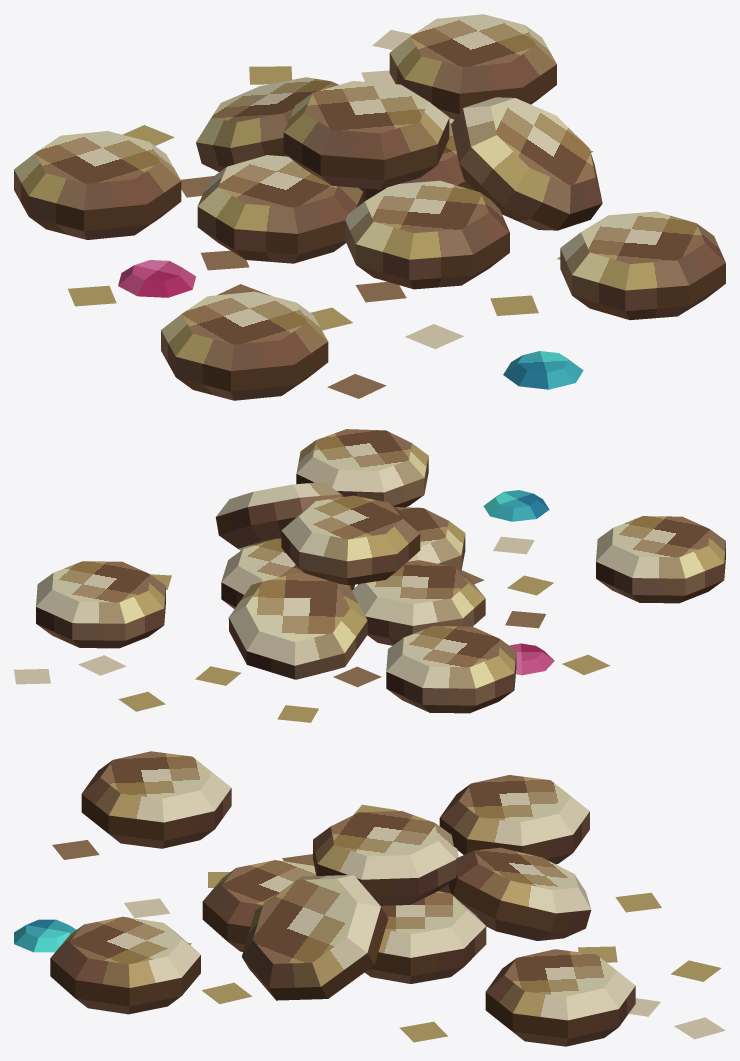
The model's file is EnvObjMD_Treasure_A.FBX.
3 renders of one model, top to bottom at view 1: azimuth 30°, elevation 25°; view 2: azimuth 150°, elevation 25°; view 3: azimuth 270°, elevation 25°, orthographic. The views are drawn at different scales.
Parts seen in each view (by area): view 1: EnvObjMD_Treasure_A; view 2: EnvObjMD_Treasure_A; view 3: EnvObjMD_Treasure_A.
Boxes of the visible parts, x1=… form: EnvObjMD_Treasure_A: x1=14, y1=14, x2=725, y2=400; EnvObjMD_Treasure_A: x1=14, y1=429, x2=725, y2=722; EnvObjMD_Treasure_A: x1=14, y1=751, x2=725, y2=1046.
Bounding box in the file's own units: 81.99 × 16.11 × 94.41.
